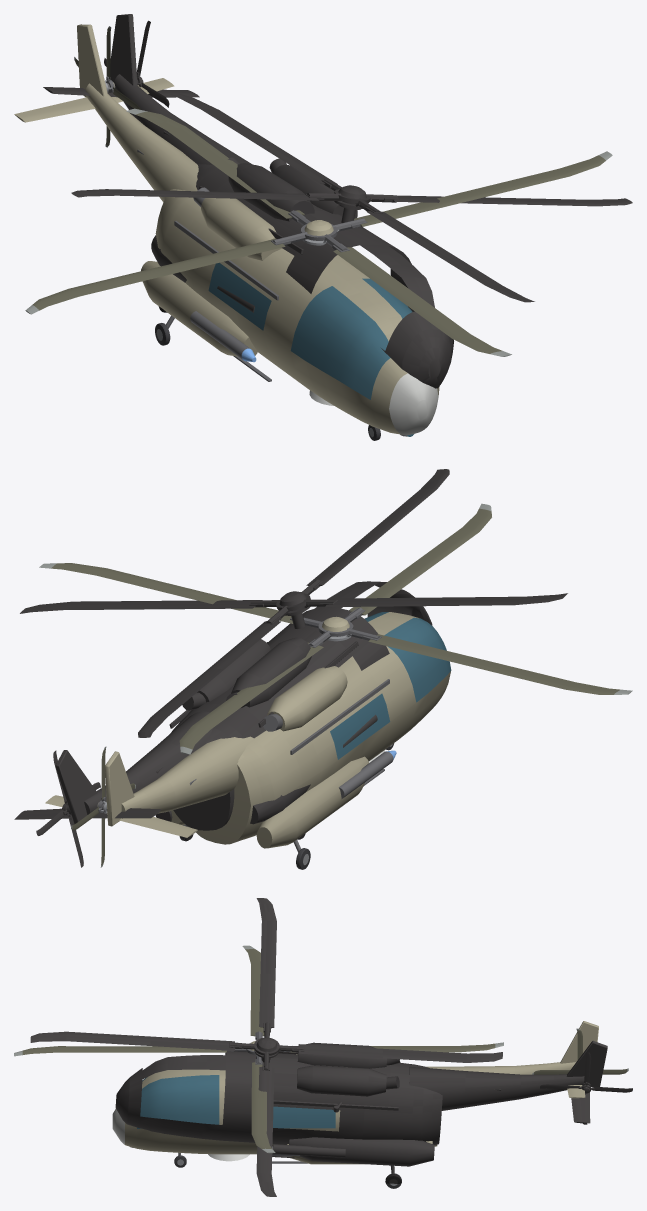
The model's file is navalHelicopter__nh90_nfh.glb.
The picture shows the model from 3 angles, top to bottom: view 1: azimuth 30°, elevation 25°; view 2: azimuth 150°, elevation 25°; view 3: azimuth 270°, elevation 25°; orthographic projection. The views are drawn at different scales.
Visible parts, largest first — view 1: Fuselage_Mesh, Wreck, Rotor_Main_Mesh, Engines_Mesh, Naval_Mission_Kit_Mesh, Rotor_Tail_Mesh; view 2: Fuselage_Mesh, Wreck, Rotor_Main_Mesh, Engines_Mesh, Naval_Mission_Kit_Mesh, Rotor_Tail_Mesh; view 3: Wreck, Fuselage_Mesh, Rotor_Main_Mesh, Rotor_Tail_Mesh.
Boxes of the visible parts, <box> form: Fuselage_Mesh: <box>14,24,439,436</box>; Wreck: <box>43,14,632,388</box>; Rotor_Main_Mesh: <box>25,108,612,356</box>; Engines_Mesh: <box>193,187,281,260</box>; Naval_Mission_Kit_Mesh: <box>190,311,256,362</box>; Rotor_Tail_Mesh: <box>74,26,140,147</box>; Fuselage_Mesh: <box>45,612,451,848</box>; Wreck: <box>14,469,567,867</box>; Rotor_Main_Mesh: <box>39,503,632,754</box>; Engines_Mesh: <box>263,666,347,731</box>; Naval_Mission_Kit_Mesh: <box>339,750,396,798</box>; Rotor_Tail_Mesh: <box>71,746,135,867</box>; Wreck: <box>30,898,632,1196</box>; Fuselage_Mesh: <box>112,1021,598,1164</box>; Rotor_Main_Mesh: <box>14,945,503,1153</box>; Rotor_Tail_Mesh: <box>532,1028,628,1074</box>.
Size of what is drawn, in the model's own units: 16.83 by 6.82 by 20.6.
